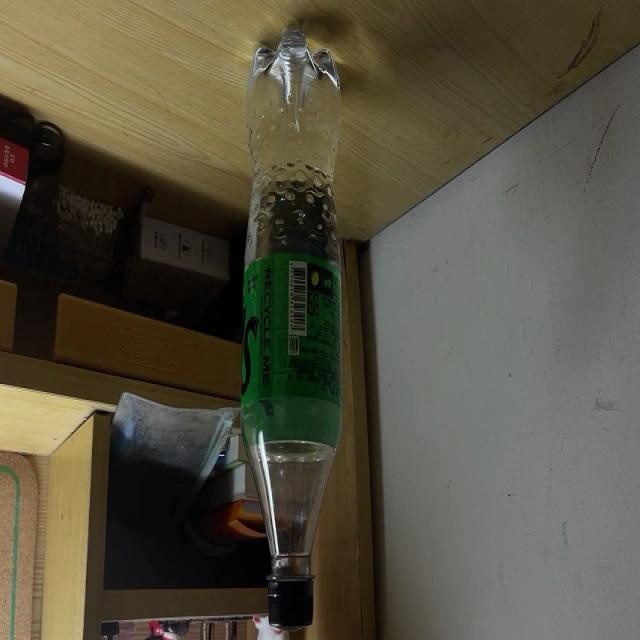Sprite: (240, 26, 341, 631)
